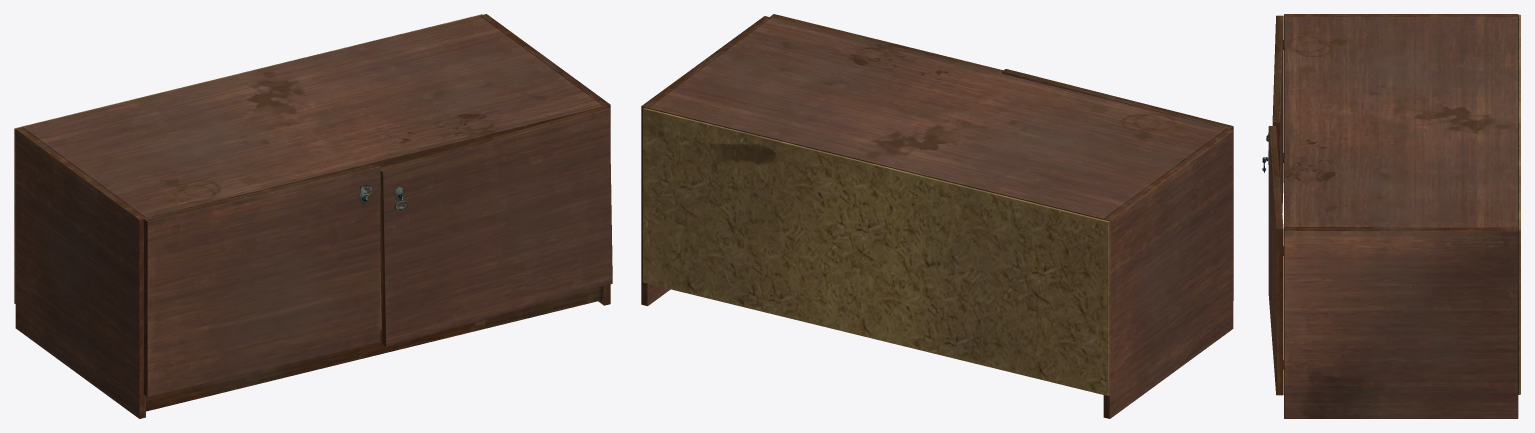
The model's file is chest.glb.
The picture shows the model from 3 angles, left to right: view 1: azimuth 30°, elevation 25°; view 2: azimuth 150°, elevation 25°; view 3: azimuth 270°, elevation 25°; orthographic projection. The views are drawn at different scales.
Visible parts, largest first — view 1: Cupboard_small.001_sov_cupboard_small_0; view 2: Cupboard_small.001_sov_cupboard_small_0; view 3: Cupboard_small.001_sov_cupboard_small_0.
Boxes of the visible parts, left/top/right/bottom form: Cupboard_small.001_sov_cupboard_small_0: left=14, top=14, right=612, bottom=418; Cupboard_small.001_sov_cupboard_small_0: left=641, top=14, right=1233, bottom=418; Cupboard_small.001_sov_cupboard_small_0: left=1268, top=14, right=1520, bottom=418.
Size of the model in its own units: 2.28 by 0.9246 by 1.15.
2 materials, 2 textured.
